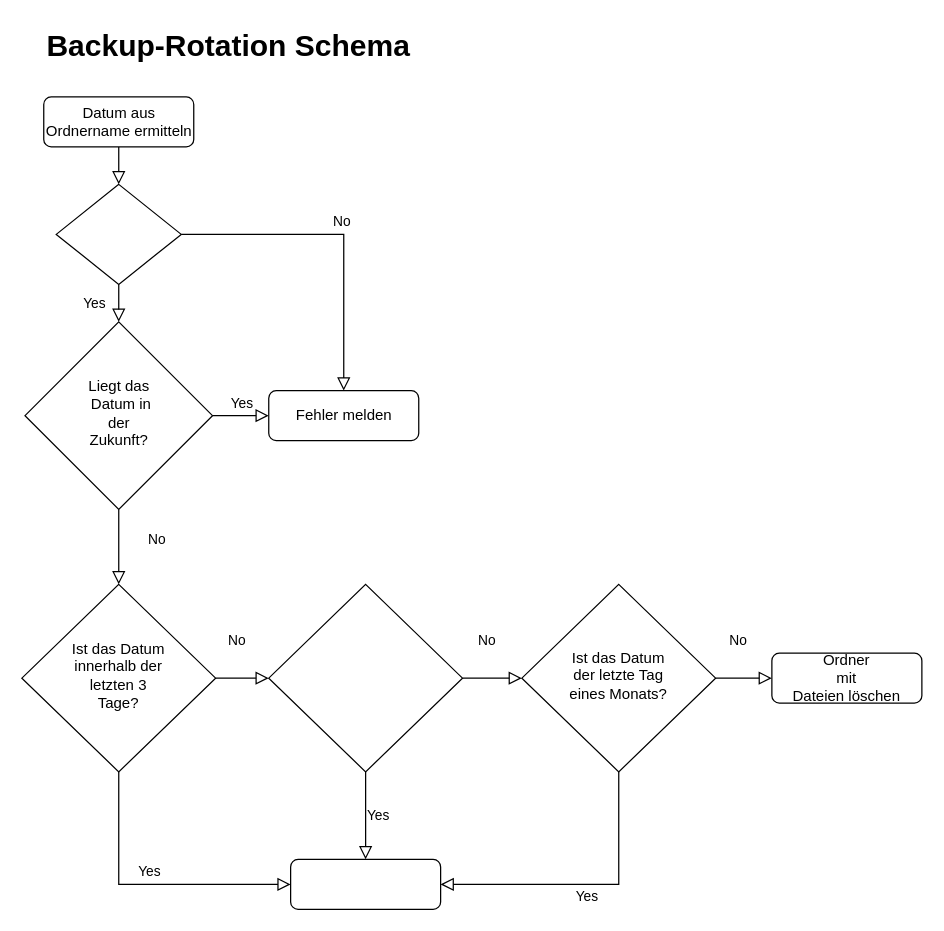
Image size: 944x931. Some labels were removed from this diagram. Each missing label, with the centre of its shape:
Datum ermittelbar?: point (118, 233)
Ist das Datum ein Sonntag und <= 1 Monat: point (365, 677)
Ordner behalten: point (365, 883)
